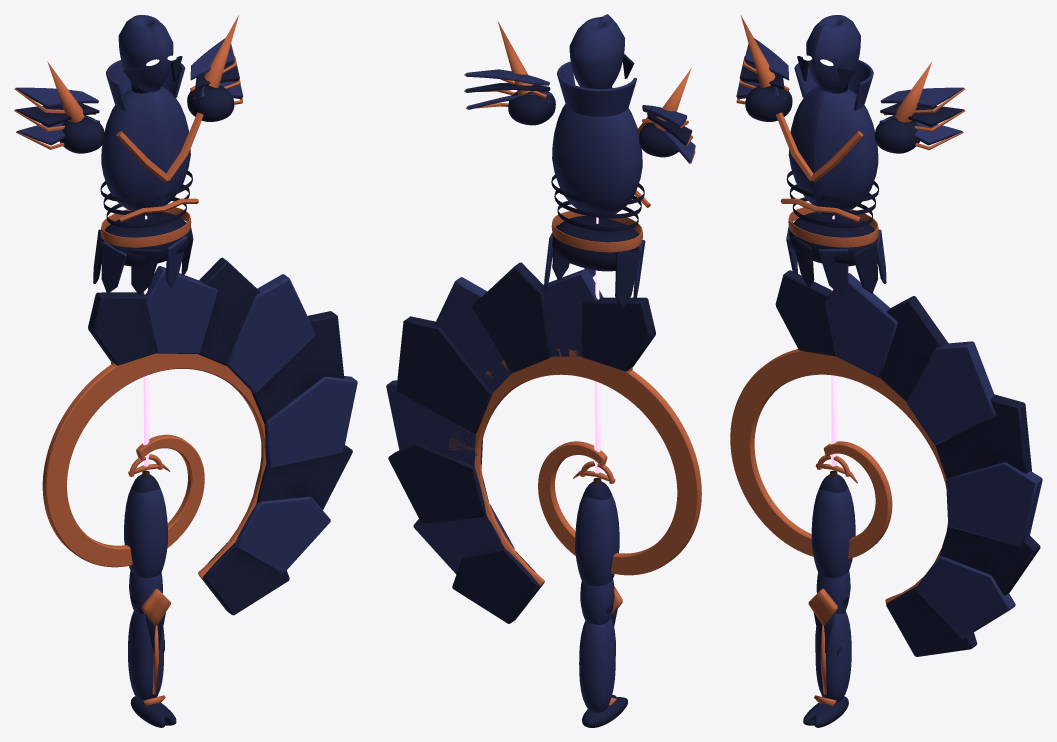
Rendered from commutator.glb.
3 views of the same model, side by side, from view 1: azimuth 30°, elevation 25°; view 2: azimuth 150°, elevation 25°; view 3: azimuth 330°, elevation 25° (orthographic).
Parts seen in each view (by area): view 1: cm_crescent, cm_body, cm_spiral, cm_leg, cm_arm, cm_rapier; view 2: cm_crescent, cm_body, cm_spiral, cm_leg, cm_arm, cm_rapier; view 3: cm_crescent, cm_body, cm_spiral, cm_leg, cm_arm, cm_rapier.
Boxes of the visible parts, box(x1,y1,x2,y2) form: cm_crescent: box(88, 257, 357, 615); cm_body: box(14, 15, 243, 295); cm_spiral: box(42, 353, 265, 567); cm_leg: box(124, 486, 176, 727); cm_arm: box(129, 474, 164, 650); cm_rapier: box(128, 215, 170, 476); cm_crescent: box(386, 262, 655, 623); cm_body: box(464, 14, 695, 309); cm_spiral: box(449, 348, 701, 575); cm_leg: box(575, 494, 627, 727); cm_arm: box(580, 481, 614, 624); cm_rapier: box(573, 217, 615, 483); cm_crescent: box(775, 270, 1042, 656); cm_body: box(736, 15, 965, 295); cm_spiral: box(730, 349, 946, 558); cm_leg: box(803, 486, 855, 727); cm_arm: box(816, 474, 850, 655); cm_rapier: box(815, 215, 857, 483).
Bounding box in the file's own units: 1.33 × 2.78 × 0.3467.
